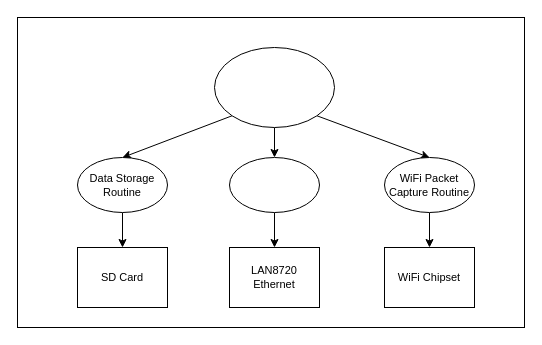
This 542x345 diagram has some shape labels left out. Here are the shapes that lost their labels. From the top down, the centre of each, then its label:
At point (274, 87): "Honeypot AP + Network Analyzer".
At point (274, 184): "Ethernet Packet Capture Routine".
